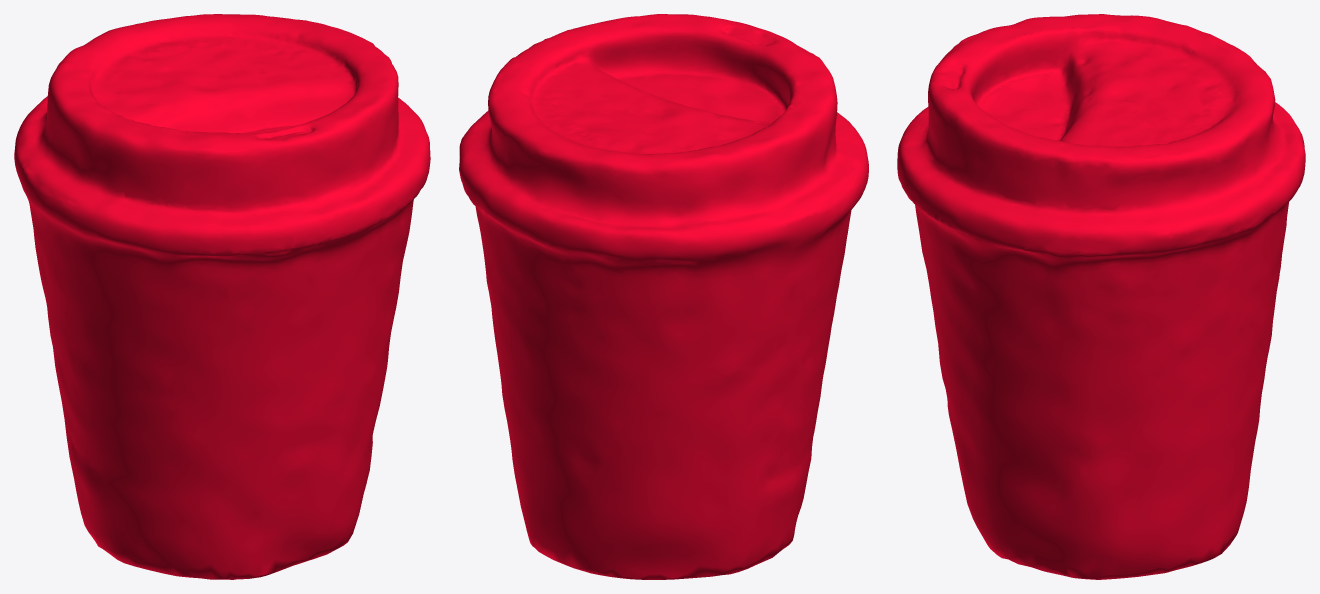
3 renders of one model, left to right at view 1: azimuth 30°, elevation 25°; view 2: azimuth 150°, elevation 25°; view 3: azimuth 270°, elevation 25°, orthographic. The views are drawn at different scales.
Parts seen in each view (by area): view 1: Mesh_0; view 2: Mesh_0; view 3: Mesh_0.
Part boxes in pixels (<box>): Mesh_0: <box>14,14,430,579</box>; Mesh_0: <box>459,14,868,579</box>; Mesh_0: <box>897,14,1305,579</box>.
Bounding box in the file's own units: 0.0896 × 0.1068 × 0.0889.
1 material, 1 textured.
